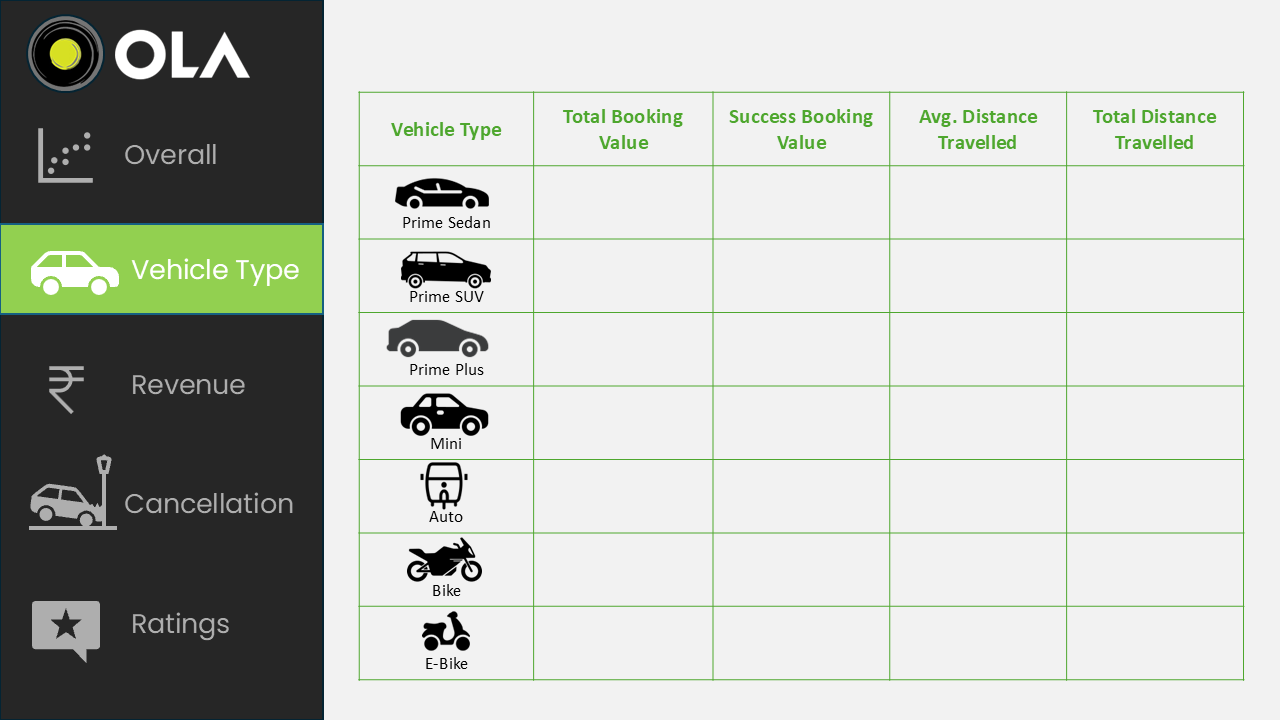

Layout of this report page (visuals, bound fields, positions):
{"tool":"powerbi","page":{"name":"Vehicle Type","canvas":[1280,720],"ordinal":1},"visuals":[{"type":"actionButton","box":[2.1,576.8,320.8,89.9],"z":0},{"type":"actionButton","box":[1,447.3,320.8,89.9],"z":1000},{"type":"actionButton","box":[2.1,335.4,320.8,89.9],"z":2000},{"type":"actionButton","box":[1,109.7,325,89.9],"z":3000},{"type":"actionButton","box":[12.1,586.8,320.8,89.9],"z":4000},{"type":"actionButton","box":[0,335.6,321.7,90.3],"z":5000},{"type":"card","fields":{"Values":["Sum(July.Booking_Value)"]},"box":[542.8,167.8,165.5,64.8],"z":6000},{"type":"card","fields":{"Values":["Sum(July.Booking_Value)"]},"box":[544.7,382.4,166,65.2],"z":7000},{"type":"card","fields":{"Values":["Sum(July.Booking_Value)"]},"box":[542.8,459.5,165.5,64.8],"z":8000},{"type":"card","fields":{"Values":["Sum(July.Booking_Value)"]},"box":[543.9,534.7,165.5,64.8],"z":9000},{"type":"card","fields":{"Values":["Sum(July.Booking_Value)"]},"box":[543.9,599.5,165.5,64.8],"z":10000},{"type":"card","fields":{"Values":["Sum(July.Booking_Value)"]},"box":[542.8,241.9,165.5,64.8],"z":11000},{"type":"card","fields":{"Values":["Sum(July.Booking_Value)"]},"box":[541.6,315.9,165.5,64.8],"z":12000},{"type":"card","fields":{"Values":["Sum(July.Booking_Value)"]},"box":[722.2,167.8,165.5,64.8],"z":13000},{"type":"card","fields":{"Values":["Sum(July.Booking_Value)"]},"box":[719.9,315.9,165.5,64.8],"z":14000},{"type":"card","fields":{"Values":["Sum(July.Booking_Value)"]},"box":[723,383.6,166,65.2],"z":15000},{"type":"card","fields":{"Values":["Sum(July.Booking_Value)"]},"box":[719.9,459.5,165.5,64.8],"z":16000},{"type":"card","fields":{"Values":["Sum(July.Booking_Value)"]},"box":[723.3,534.7,165.5,64.8],"z":17000},{"type":"card","fields":{"Values":["Sum(July.Booking_Value)"]},"box":[719.9,599.5,165.5,64.8],"z":18000},{"type":"card","fields":{"Values":["Sum(July.Booking_Value)"]},"box":[722.2,241.9,165.5,64.8],"z":19000},{"type":"card","fields":{"Values":["Avg(July.Ride_Distance)"]},"box":[900.4,167.8,165.5,64.8],"z":20000},{"type":"card","fields":{"Values":["Avg(July.Ride_Distance)"]},"box":[896.9,241.9,165.5,64.8],"z":21000},{"type":"card","fields":{"Values":["Avg(July.Ride_Distance)"]},"box":[896.9,315.9,165.5,64.8],"z":22000},{"type":"card","fields":{"Values":["Avg(July.Ride_Distance)"]},"box":[897.6,383.6,166,65.2],"z":23000},{"type":"card","fields":{"Values":["Avg(July.Ride_Distance)"]},"box":[896.9,459.5,165.5,64.8],"z":24000},{"type":"card","fields":{"Values":["Avg(July.Ride_Distance)"]},"box":[901.6,534.7,165.5,64.8],"z":25000},{"type":"card","fields":{"Values":["Avg(July.Ride_Distance)"]},"box":[898.1,599.5,165.5,64.8],"z":26000},{"type":"card","fields":{"Values":["Sum(July.Ride_Distance)"]},"box":[1075.2,167.8,165.5,64.8],"z":27000},{"type":"card","fields":{"Values":["Sum(July.Ride_Distance)"]},"box":[1074,241.9,165.5,64.8],"z":28000},{"type":"card","fields":{"Values":["Sum(July.Ride_Distance)"]},"box":[1074,306.7,165.5,64.8],"z":29000},{"type":"card","fields":{"Values":["Sum(July.Ride_Distance)"]},"box":[1074.7,384.9,166,63.9],"z":30000},{"type":"card","fields":{"Values":["Sum(July.Ride_Distance)"]},"box":[1075.2,459.5,165.5,64.8],"z":31000},{"type":"card","fields":{"Values":["Sum(July.Ride_Distance)"]},"box":[1074,534.7,165.5,64.8],"z":32000},{"type":"card","fields":{"Values":["Sum(July.Ride_Distance)"]},"box":[1075.9,600,166,63.9],"z":33000},{"type":"slicer","title":"Date","fields":{"Values":["July.Date"]},"box":[984.9,18.4,257,62.7],"z":34000}]}

Visuals, with their boxes on the page's 1280x720 design canvas (x1, y1, x2, y2). These are canvas units, not pixel positions in the 1280x720 screenshot, which may show the page scaled, cropped or inside an application window:
actionButton: l=2, t=577, r=323, b=667
actionButton: l=1, t=447, r=322, b=537
actionButton: l=2, t=335, r=323, b=425
actionButton: l=1, t=110, r=326, b=200
actionButton: l=12, t=587, r=333, b=677
actionButton: l=0, t=336, r=322, b=426
card - Sum(July.Booking_Value): l=543, t=168, r=708, b=233
card - Sum(July.Booking_Value): l=545, t=382, r=711, b=448
card - Sum(July.Booking_Value): l=543, t=460, r=708, b=524
card - Sum(July.Booking_Value): l=544, t=535, r=709, b=600
card - Sum(July.Booking_Value): l=544, t=600, r=709, b=664
card - Sum(July.Booking_Value): l=543, t=242, r=708, b=307
card - Sum(July.Booking_Value): l=542, t=316, r=707, b=381
card - Sum(July.Booking_Value): l=722, t=168, r=888, b=233
card - Sum(July.Booking_Value): l=720, t=316, r=885, b=381
card - Sum(July.Booking_Value): l=723, t=384, r=889, b=449
card - Sum(July.Booking_Value): l=720, t=460, r=885, b=524
card - Sum(July.Booking_Value): l=723, t=535, r=889, b=600
card - Sum(July.Booking_Value): l=720, t=600, r=885, b=664
card - Sum(July.Booking_Value): l=722, t=242, r=888, b=307
card - Avg(July.Ride_Distance): l=900, t=168, r=1066, b=233
card - Avg(July.Ride_Distance): l=897, t=242, r=1062, b=307
card - Avg(July.Ride_Distance): l=897, t=316, r=1062, b=381
card - Avg(July.Ride_Distance): l=898, t=384, r=1064, b=449
card - Avg(July.Ride_Distance): l=897, t=460, r=1062, b=524
card - Avg(July.Ride_Distance): l=902, t=535, r=1067, b=600
card - Avg(July.Ride_Distance): l=898, t=600, r=1064, b=664
card - Sum(July.Ride_Distance): l=1075, t=168, r=1241, b=233
card - Sum(July.Ride_Distance): l=1074, t=242, r=1240, b=307
card - Sum(July.Ride_Distance): l=1074, t=307, r=1240, b=372
card - Sum(July.Ride_Distance): l=1075, t=385, r=1241, b=449
card - Sum(July.Ride_Distance): l=1075, t=460, r=1241, b=524
card - Sum(July.Ride_Distance): l=1074, t=535, r=1240, b=600
card - Sum(July.Ride_Distance): l=1076, t=600, r=1242, b=664
"Date" slicer: l=985, t=18, r=1242, b=81
